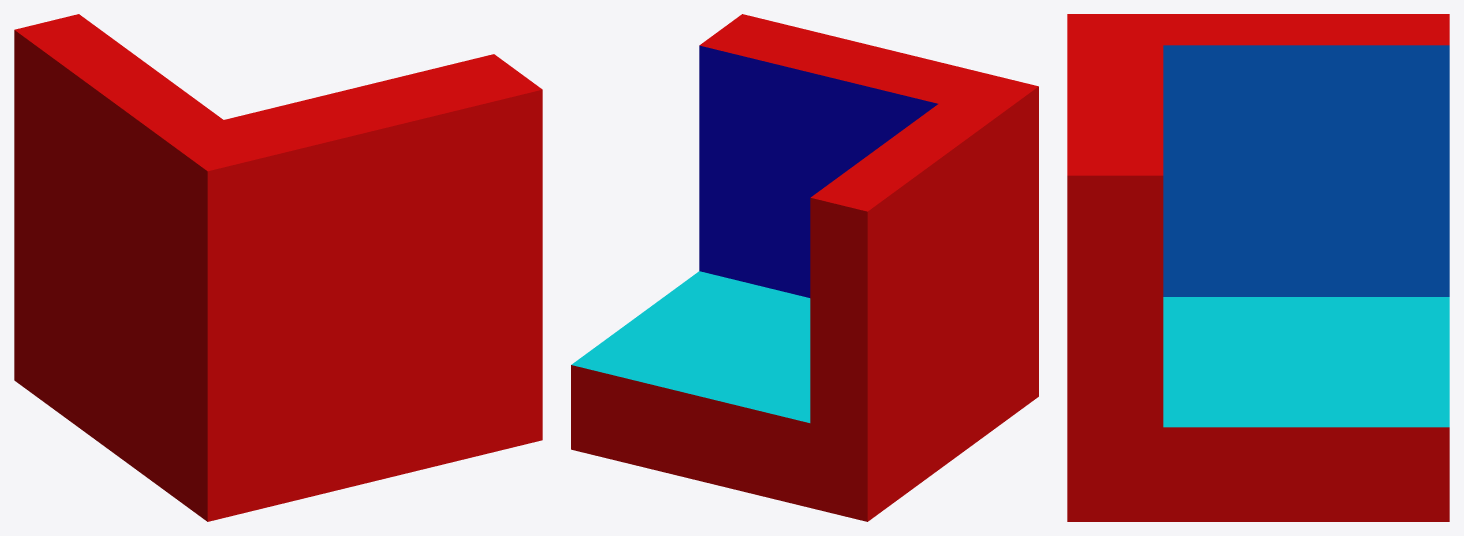
3 views of the same model, side by side, from view 1: azimuth 30°, elevation 25°; view 2: azimuth 150°, elevation 25°; view 3: azimuth 270°, elevation 25° (orthographic). The views are drawn at different scales.
Parts seen in each view (by area): view 1: Cube; view 2: Cube; view 3: Cube.
Boxes of the visible parts, x1,y1,x2,y2 form: Cube: [14, 14, 542, 521]; Cube: [571, 14, 1038, 521]; Cube: [1067, 14, 1449, 521].
Size of the model in its own units: 200 by 200 by 200.
